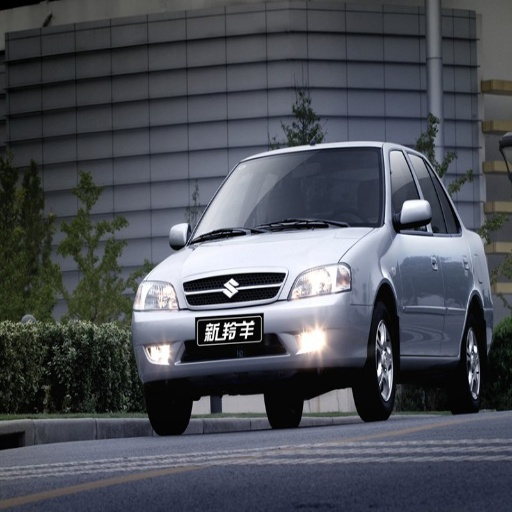front_bumper: (132, 271, 372, 380)
front_glass: (192, 148, 382, 243)
front_left_door: (389, 150, 445, 355)
front_right_light: (137, 277, 182, 309)
